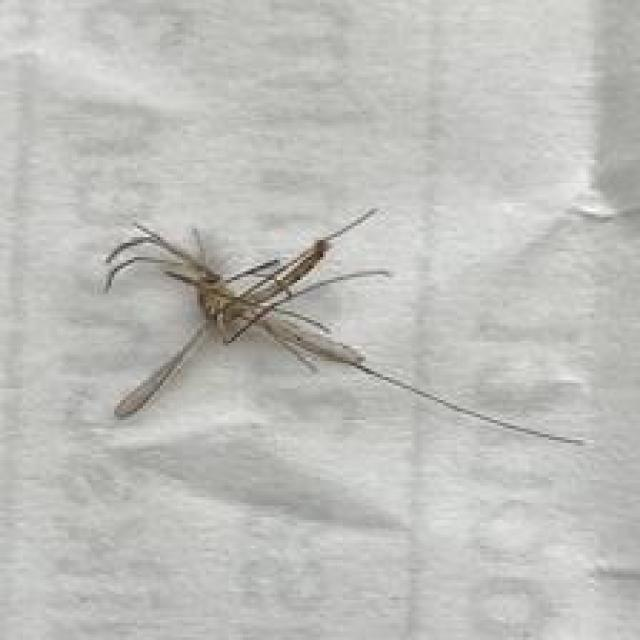Culex: (102, 206, 587, 448)
